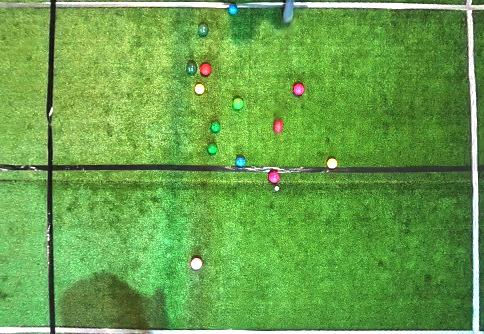blue: (235, 156, 246, 167), (228, 3, 238, 15)
green: (198, 23, 209, 37), (232, 98, 244, 110), (186, 61, 197, 74), (207, 143, 218, 155), (211, 121, 221, 133)
red: (268, 170, 280, 183), (293, 83, 305, 96), (200, 64, 212, 76), (191, 258, 203, 270), (273, 119, 284, 132)
vline: (1, 0, 56, 333), (463, 0, 483, 334)
white: (275, 186, 279, 191)
yellow: (327, 158, 337, 169), (195, 84, 205, 95)
